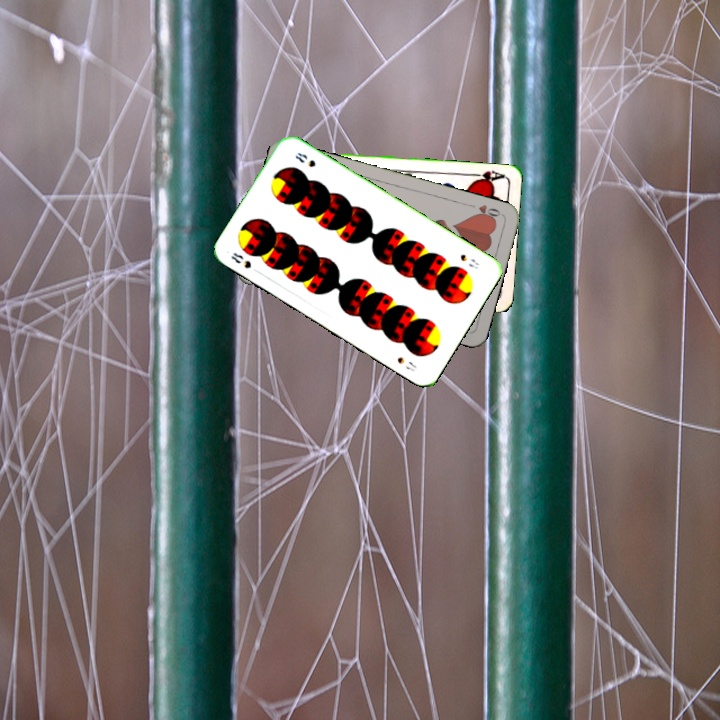HA: (465, 166, 506, 186)
HO: (464, 200, 503, 223)
S8: (227, 248, 254, 271), (456, 250, 481, 271)
